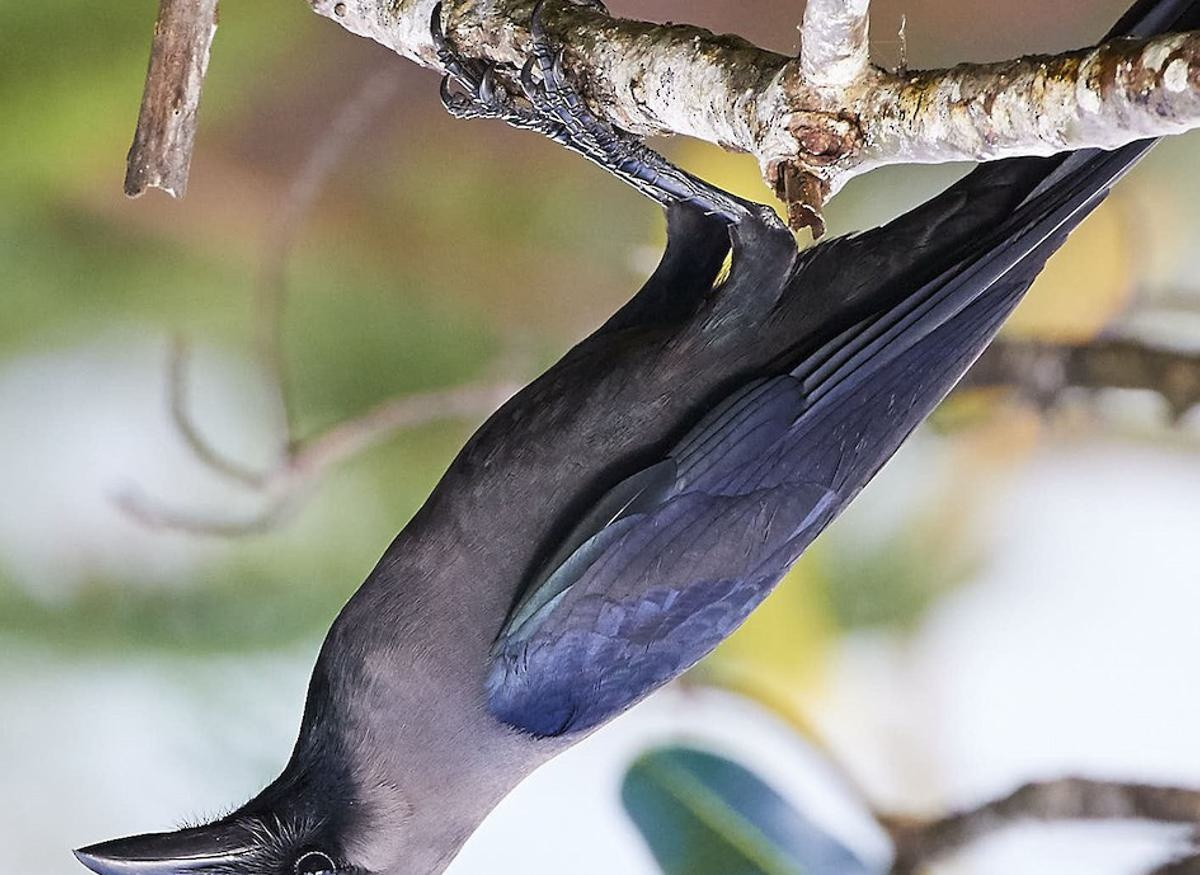crow: (64, 55, 1173, 874)
